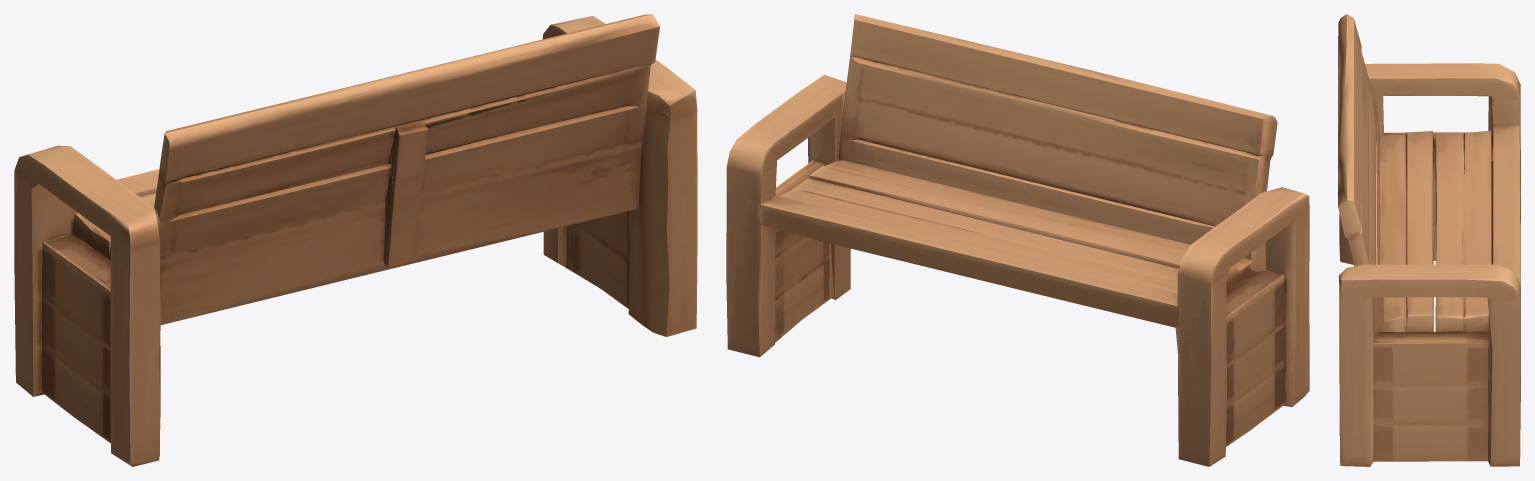
Rendered from seat_bench_v2.glb.
The picture shows the model from 3 angles, left to right: view 1: azimuth 30°, elevation 25°; view 2: azimuth 150°, elevation 25°; view 3: azimuth 270°, elevation 25°; orthographic projection. The views are drawn at different scales.
Visible parts, largest first — view 1: body; view 2: body; view 3: body.
Boxes of the visible parts, box(x1,y1,x2,y2) form: body: box(14, 14, 697, 466); body: box(726, 14, 1309, 466); body: box(1338, 14, 1520, 466).
Size of the model in its own units: 1.6 by 0.8694 by 0.5701.
1 material, 1 textured.
